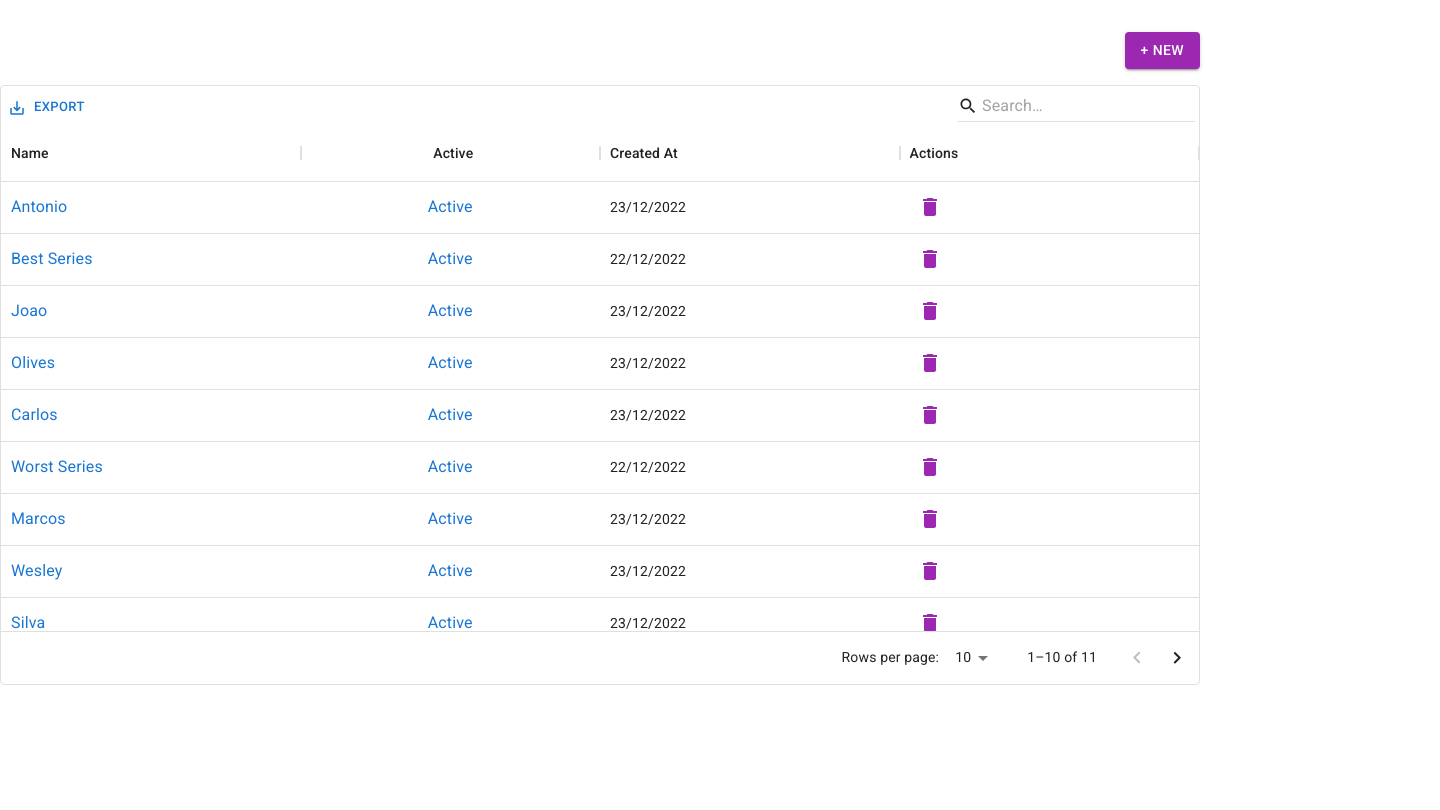
Test case: List category › should handle on page change
expect the text "Antonio" is shown: met, box [11, 195, 67, 219]
Step 1. Click the button with test id "KeyboardArrowRightIcon" → (1177, 658), box [1157, 638, 1197, 678]
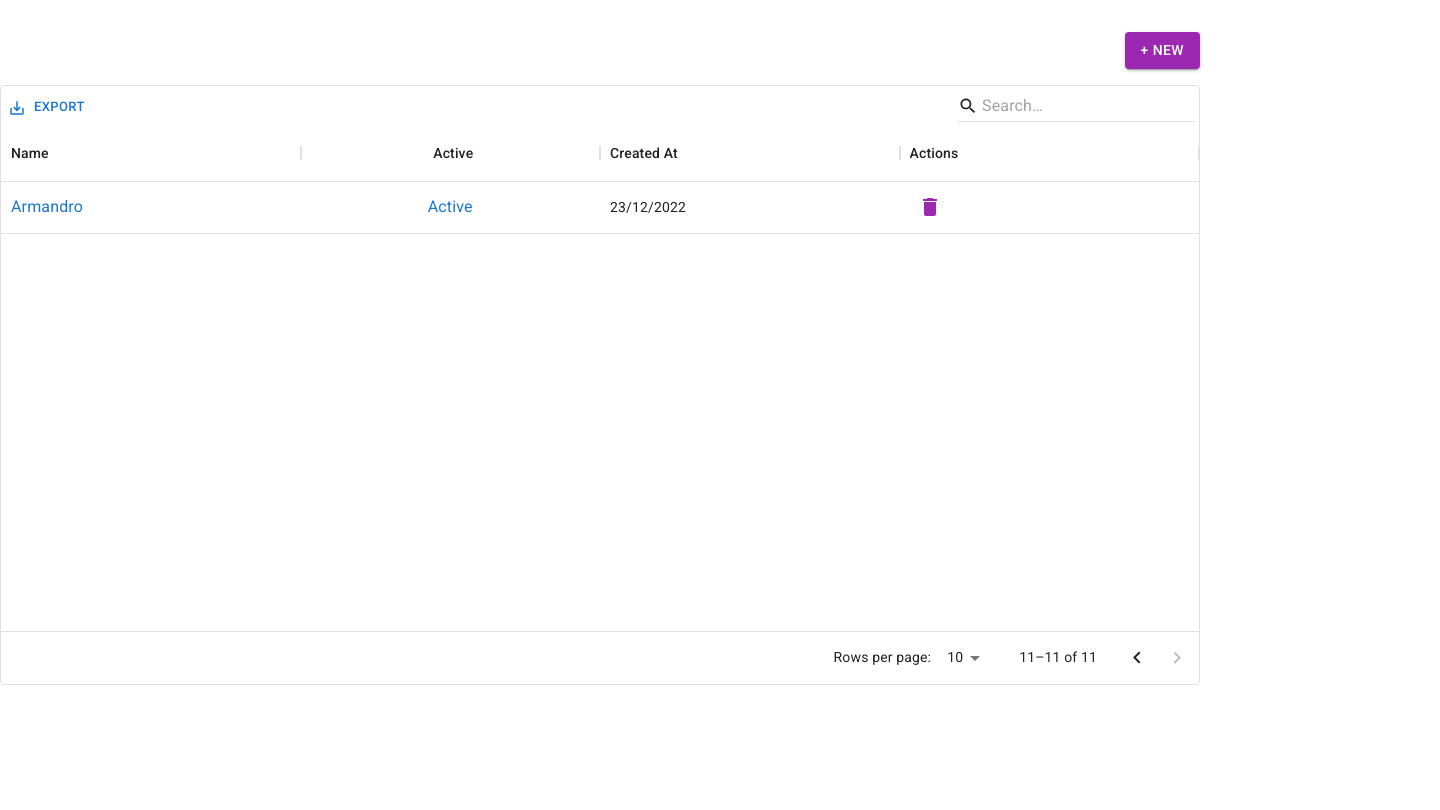
expect the text "Armandro" is shown: met, box [11, 195, 83, 219]
